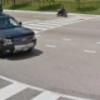crosswalks: (0, 74, 96, 99), (26, 15, 100, 33)
